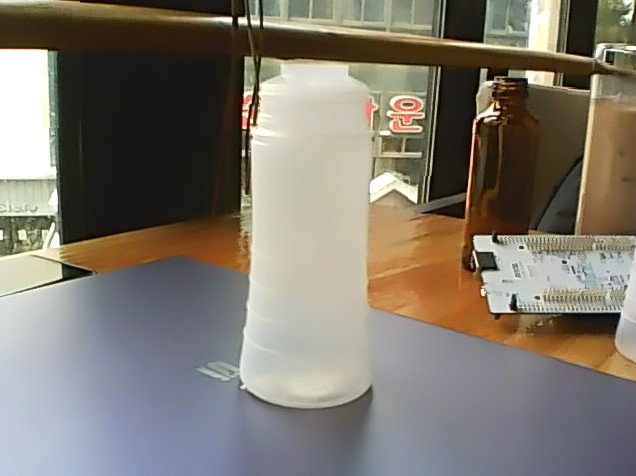Plastic: (238, 57, 380, 416)
